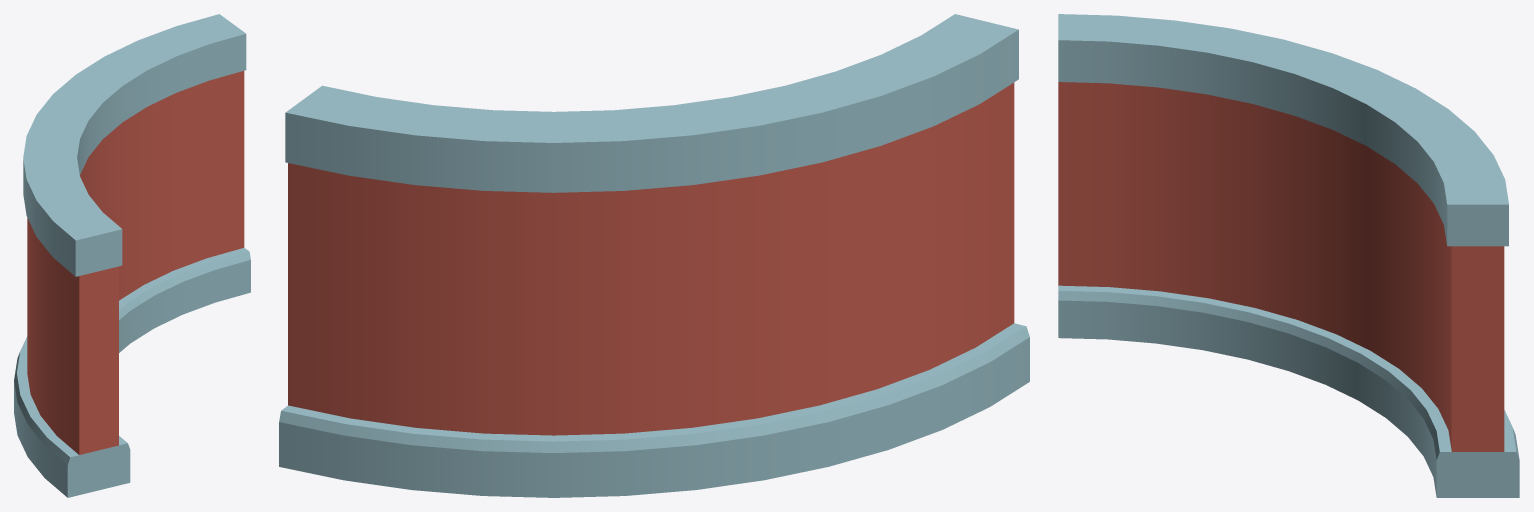
Rendered from brickWallCurve.dae.
The picture shows the model from 3 angles, left to right: view 1: azimuth 30°, elevation 25°; view 2: azimuth 150°, elevation 25°; view 3: azimuth 270°, elevation 25°; orthographic projection. The views are drawn at different scales.
Visible parts, largest first — view 1: brickWallCurve; view 2: brickWallCurve; view 3: brickWallCurve.
Boxes of the visible parts, bbox=[...] form: brickWallCurve: bbox=[14, 14, 250, 497]; brickWallCurve: bbox=[279, 14, 1029, 497]; brickWallCurve: bbox=[1058, 14, 1519, 497].
Bounding box in the file's own units: 1 × 0.7019 × 1.
